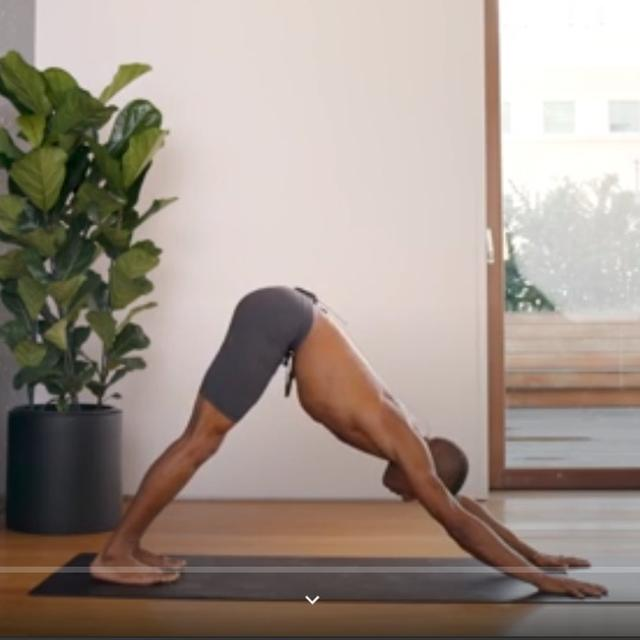Downward-Facing_Dog: (79, 283, 614, 614)
